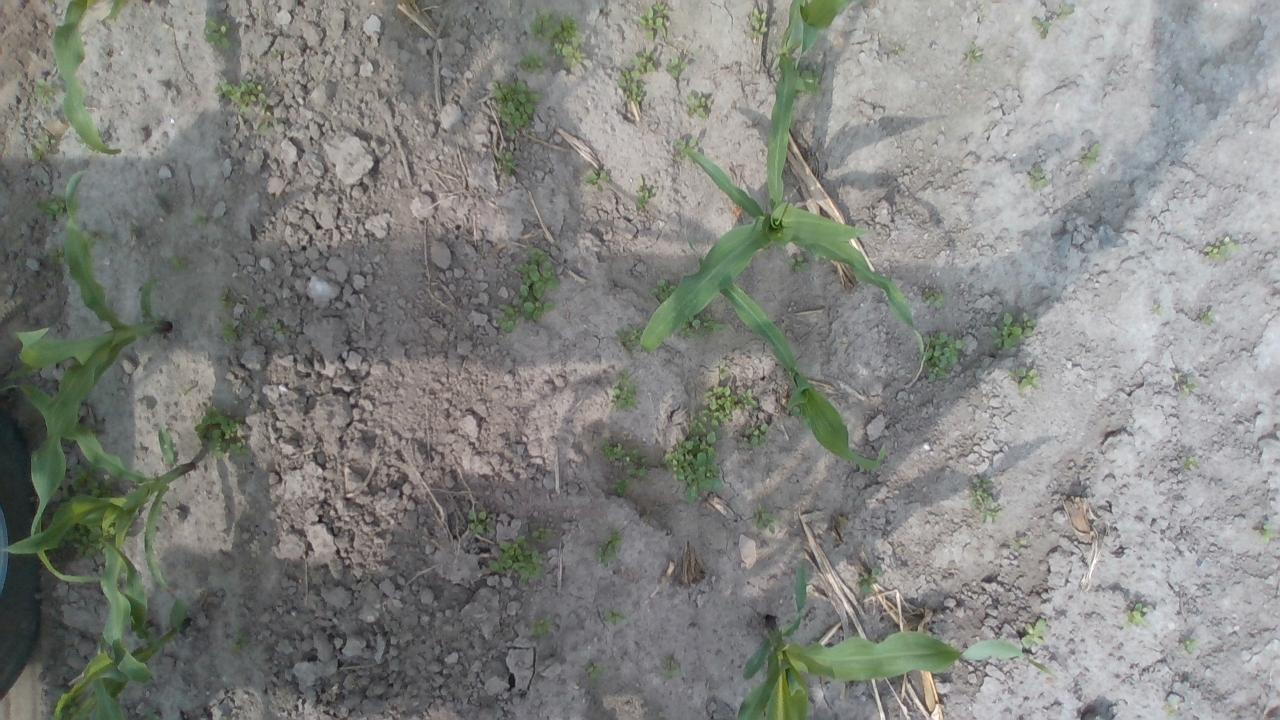Maize: (639, 147, 925, 383), (16, 171, 172, 586), (736, 562, 1055, 720), (688, 238, 885, 472), (0, 380, 196, 593), (46, 538, 192, 720), (768, 0, 852, 209), (50, 0, 152, 157)
Weeds: (662, 432, 721, 503), (529, 7, 585, 70), (516, 244, 561, 320), (488, 78, 543, 136), (193, 407, 250, 458), (488, 536, 544, 586), (919, 334, 966, 384), (54, 462, 114, 498), (63, 521, 116, 561), (690, 386, 736, 432), (600, 438, 648, 480), (216, 77, 267, 114), (990, 312, 1034, 351), (607, 368, 641, 413), (969, 478, 1000, 522), (678, 313, 729, 338), (639, 3, 671, 40), (618, 68, 645, 106), (792, 66, 824, 98), (34, 194, 68, 224), (594, 532, 622, 568), (204, 16, 233, 50), (1204, 236, 1242, 260), (494, 302, 522, 334), (1008, 366, 1042, 391), (1021, 618, 1047, 650), (746, 6, 768, 42), (740, 423, 769, 450), (30, 134, 56, 162), (648, 278, 678, 302), (518, 48, 544, 74), (672, 137, 699, 162), (616, 324, 644, 348), (222, 318, 245, 346), (630, 50, 656, 74), (584, 168, 609, 192), (228, 631, 250, 658), (753, 508, 777, 532), (686, 94, 708, 120), (36, 78, 57, 105), (82, 230, 110, 250), (1126, 601, 1148, 626), (466, 510, 487, 536), (860, 567, 880, 594), (528, 615, 551, 638), (1030, 16, 1052, 39), (496, 149, 514, 177), (1028, 167, 1048, 192), (922, 288, 944, 310), (668, 56, 688, 80), (635, 187, 654, 212), (736, 391, 758, 412), (62, 696, 81, 720), (788, 253, 809, 274), (608, 478, 631, 497), (1080, 144, 1098, 168), (1177, 382, 1199, 400), (604, 607, 625, 625), (47, 243, 65, 264), (662, 662, 681, 680), (966, 46, 984, 65), (532, 526, 552, 542), (1262, 523, 1276, 545), (1055, 2, 1072, 20), (586, 663, 602, 682), (1200, 308, 1216, 327), (252, 303, 268, 322), (172, 255, 188, 274), (270, 321, 290, 335), (191, 207, 205, 226), (1182, 638, 1198, 654), (76, 404, 89, 421), (1182, 455, 1196, 470), (142, 708, 158, 720), (124, 527, 134, 544), (215, 293, 228, 306), (1164, 704, 1176, 718), (256, 121, 272, 130), (130, 222, 142, 234), (718, 364, 728, 376), (894, 46, 904, 56), (151, 280, 161, 289), (878, 448, 886, 459), (0, 144, 5, 150)
